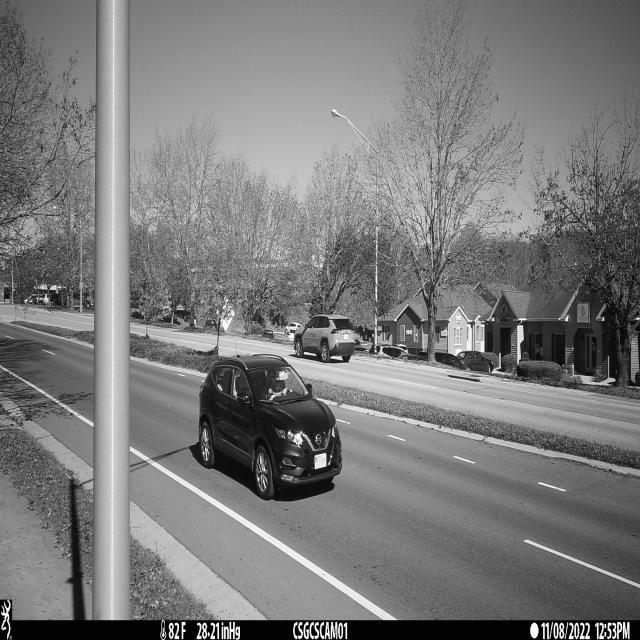SUV: (198, 353, 343, 500)
